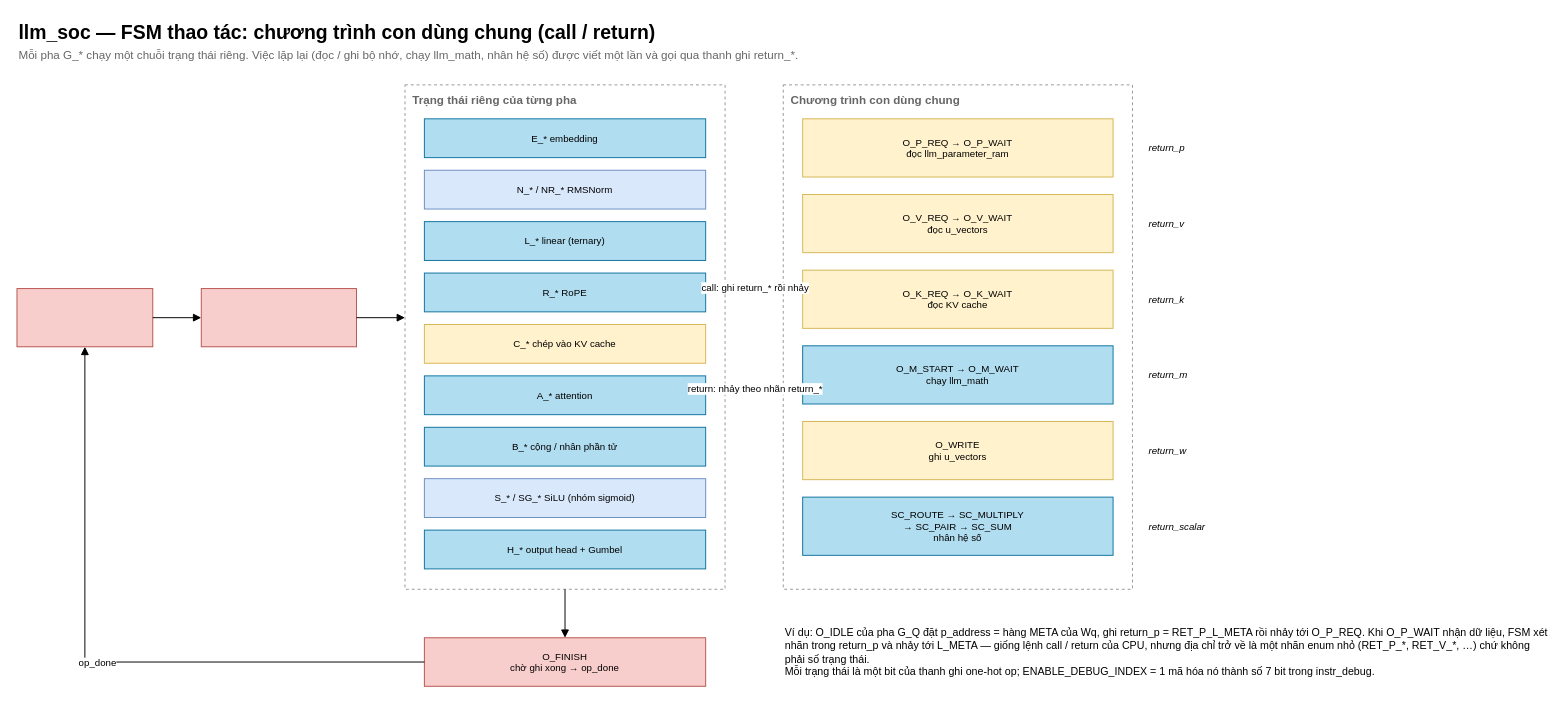
Some shapes in this 1567 by 703 pixel diagram are drawn without their labels. The shapes that lost their labels are listed below. From the top down, each one's centre as x and y in pixels, then its label:
At point (84, 317): "FSM đồ thị op_start (pha)".
At point (278, 317): "O_IDLE chọn bước đầu theo pha".
